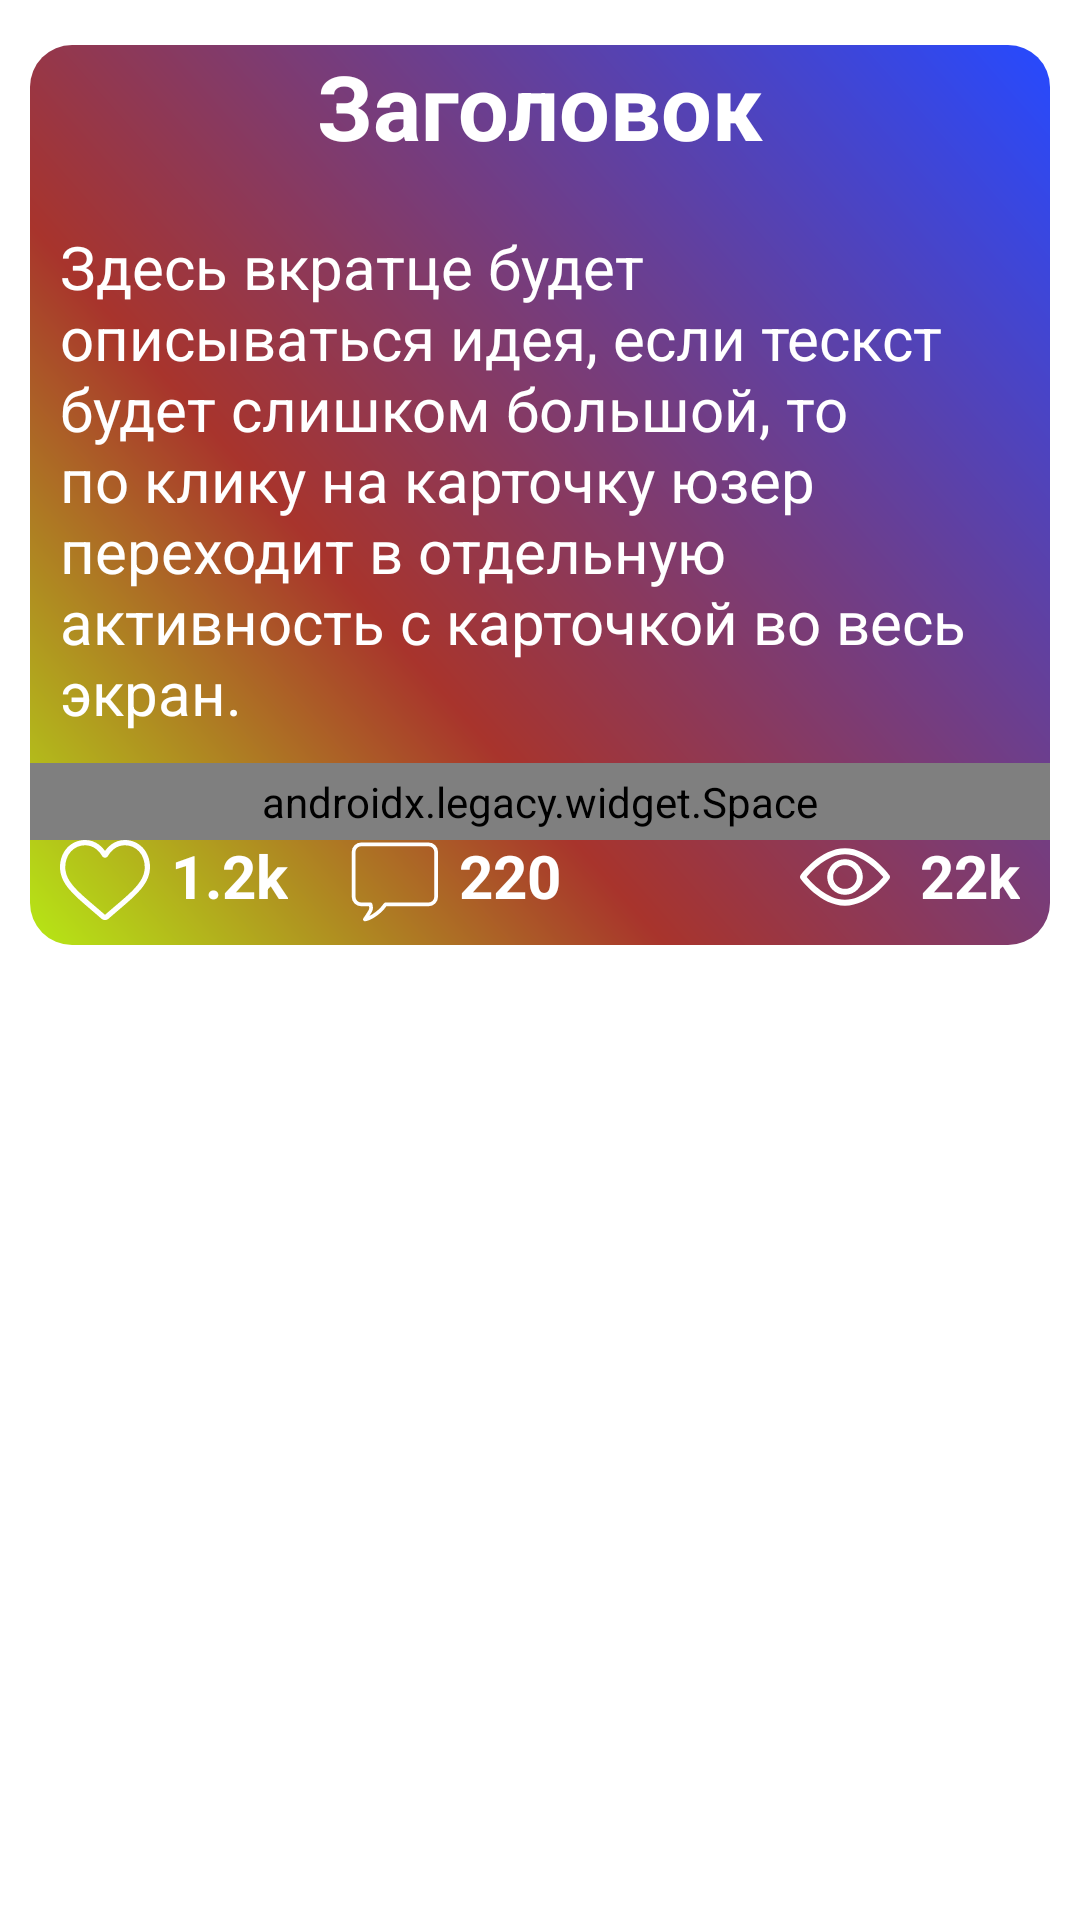

Point at icon controls on the screen. Image size 1080px×1920px, points as (x,y).
comment: (393,882)
eye: (845,877)
like: (105,885)
